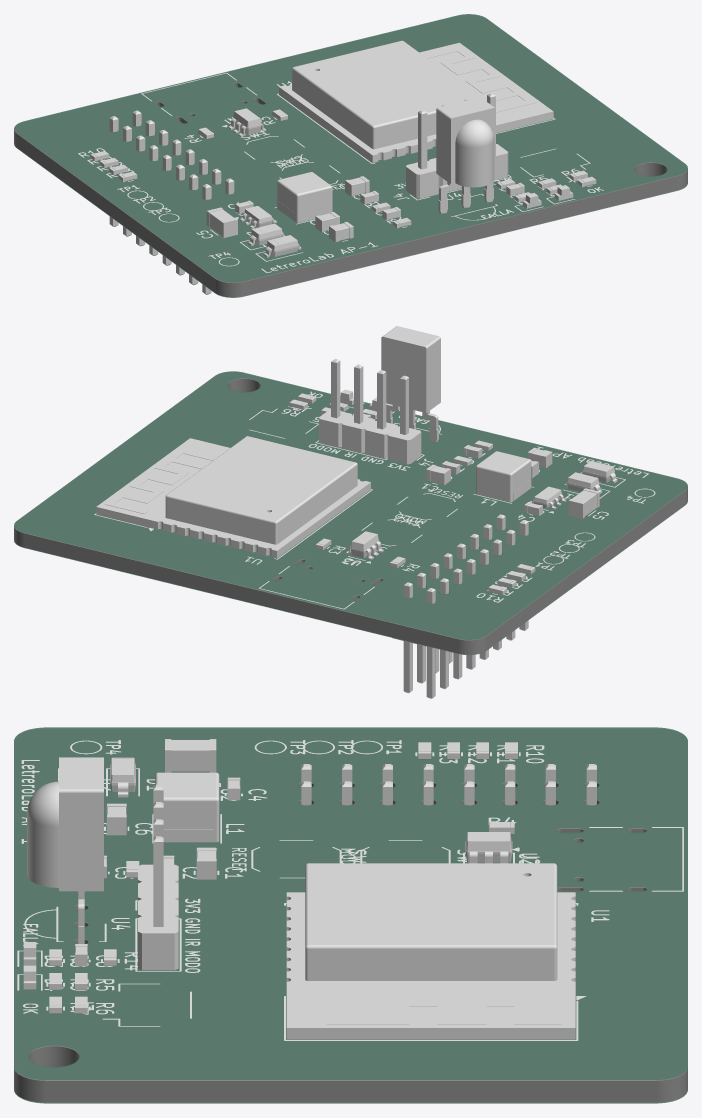
The model's file is AP1_Programador.glb.
3 views of the same model, one above another, from view 1: azimuth 30°, elevation 25°; view 2: azimuth 150°, elevation 25°; view 3: azimuth 270°, elevation 25° (orthographic). The views are drawn at different scales.
Visible parts, largest first — view 1: =>[0:1:1:19], =>[0:1:1:17], U1, U4, =>[0:1:1:15], J1, J4, L1, =>[0:1:1:18], C5, U3, D2 (+2 smaller); view 2: =>[0:1:1:19], =>[0:1:1:17], U1, J4, J1, U4, =>[0:1:1:15], L1, =>[0:1:1:18], C5, U3; view 3: =>[0:1:1:19], =>[0:1:1:17], U1, U4, =>[0:1:1:15], J4, L1, J1, C5, U3, =>[0:1:1:18], D1 (+2 smaller).
Part boxes in pixels (bbox=[...]): =>[0:1:1:19]: bbox=[14, 15, 687, 297]; =>[0:1:1:17]: bbox=[14, 14, 687, 282]; U1: bbox=[279, 40, 553, 162]; U4: bbox=[436, 97, 495, 213]; =>[0:1:1:15]: bbox=[78, 72, 603, 272]; J1: bbox=[109, 110, 234, 294]; J4: bbox=[406, 93, 508, 198]; L1: bbox=[277, 172, 332, 222]; =>[0:1:1:18]: bbox=[14, 145, 687, 297]; C5: bbox=[206, 207, 237, 237]; U3: bbox=[228, 108, 266, 136]; D2: bbox=[263, 235, 301, 257]; =>[0:1:1:19]: bbox=[14, 372, 687, 654]; =>[0:1:1:17]: bbox=[14, 371, 687, 639]; U1: bbox=[96, 436, 370, 558]; J4: bbox=[319, 358, 421, 464]; J1: bbox=[392, 514, 528, 698]; U4: bbox=[381, 326, 440, 442]; =>[0:1:1:15]: bbox=[94, 391, 655, 609]; L1: bbox=[476, 451, 531, 502]; =>[0:1:1:18]: bbox=[14, 502, 687, 655]; C5: bbox=[568, 488, 599, 518]; U3: bbox=[346, 531, 383, 559]; =>[0:1:1:19]: bbox=[14, 729, 687, 1102]; =>[0:1:1:17]: bbox=[14, 727, 687, 1079]; U1: bbox=[286, 863, 575, 1039]; U4: bbox=[27, 757, 103, 943]; =>[0:1:1:15]: bbox=[17, 740, 683, 1040]; J4: bbox=[138, 784, 178, 970]; L1: bbox=[155, 772, 219, 842]; J1: bbox=[301, 764, 596, 805]; C5: bbox=[165, 739, 216, 772]; U3: bbox=[465, 832, 512, 863]; =>[0:1:1:18]: bbox=[14, 1090, 687, 1103]; D1: bbox=[110, 757, 135, 797].
Size of the model in its own units: 0.052 by 0.0206 by 0.042.
